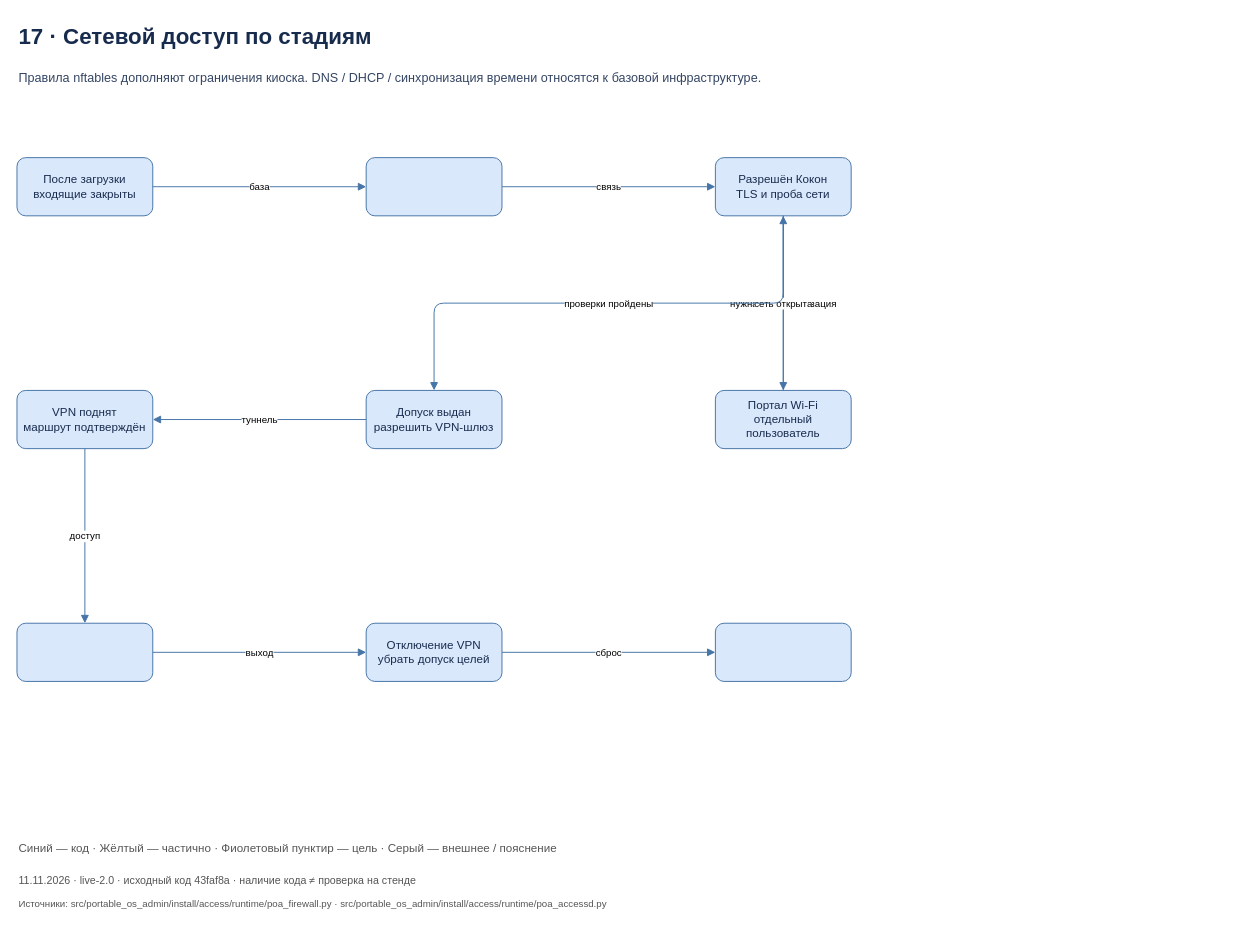
Image size: 1237x945. Some labels were removed from this diagram. Here are the shapes that lost their labels. From the top down, the centre of each, then its label:
(x=433, y=186): Инфраструктура DNS / DHCP / время
(x=84, y=651): Назначенные цели только через туннель
(x=782, y=651): Возврат к базовым сетевым разрешениям
